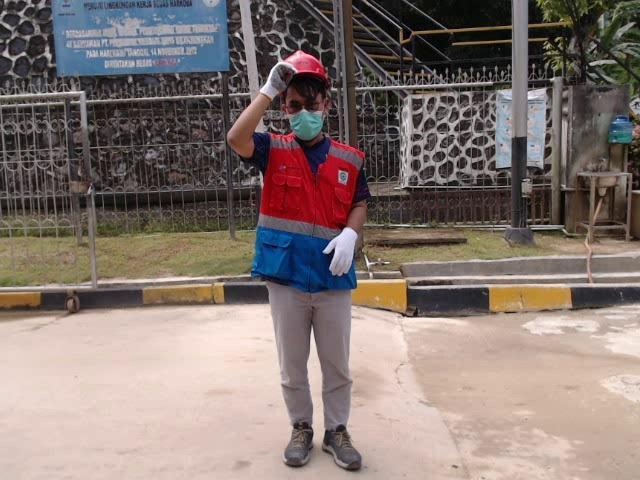helmet: (276, 49, 331, 82)
